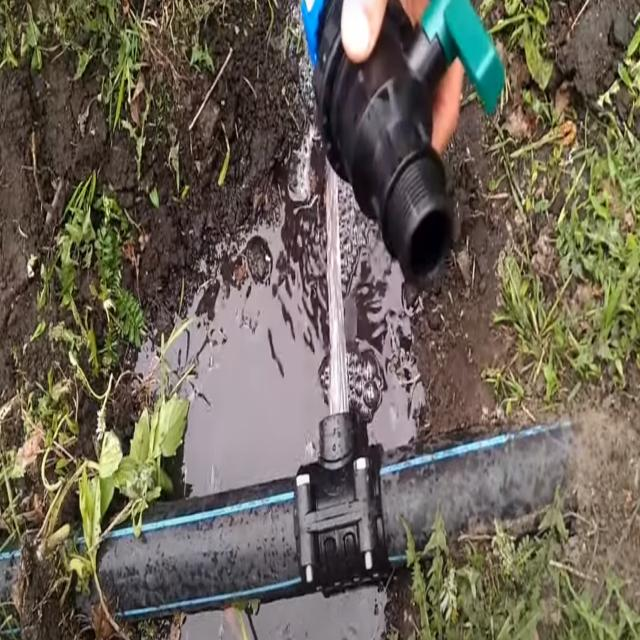leak: (326, 161, 349, 415)
